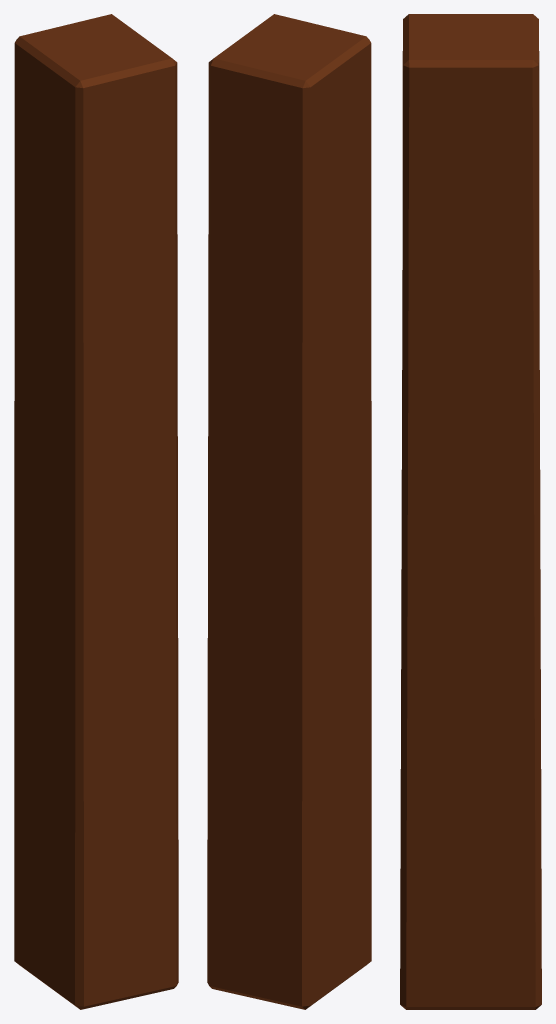
The model's file is P_Pillar.fbx.
3 views of the same model, side by side, from view 1: azimuth 30°, elevation 25°; view 2: azimuth 150°, elevation 25°; view 3: azimuth 270°, elevation 25° (orthographic). The views are drawn at different scales.
Parts seen in each view (by area): view 1: pillar_border; view 2: pillar_border; view 3: pillar_border.
Part boxes in pixels (x1=…): pillar_border: x1=14, y1=14, x2=178, y2=1009; pillar_border: x1=207, y1=14, x2=371, y2=1009; pillar_border: x1=400, y1=14, x2=541, y2=1009.
Bounding box in the file's own units: 11.49 × 99.72 × 13.5.
